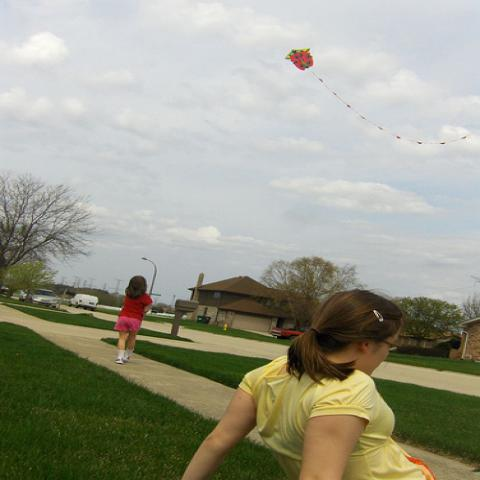car: (31, 289, 57, 309), (68, 293, 98, 310)
